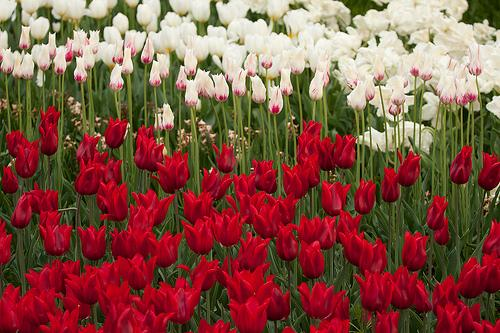tulip: (297, 280, 347, 319), (159, 275, 201, 320), (227, 294, 273, 331), (132, 185, 173, 226), (115, 251, 159, 286), (355, 268, 392, 309), (153, 149, 189, 191), (65, 265, 100, 302), (212, 209, 246, 245), (36, 222, 74, 254), (180, 217, 215, 251), (134, 135, 165, 172), (77, 223, 108, 260), (238, 232, 271, 266), (279, 161, 309, 197), (402, 227, 428, 268), (458, 255, 484, 296), (299, 237, 324, 278), (201, 164, 232, 197), (320, 179, 350, 213), (397, 147, 422, 185), (15, 138, 39, 177), (74, 159, 100, 194), (380, 165, 402, 205), (103, 114, 128, 149), (11, 192, 35, 228), (338, 229, 364, 262), (332, 132, 356, 167), (479, 149, 500, 189), (275, 223, 296, 263), (353, 178, 377, 211), (449, 145, 470, 182), (213, 139, 236, 171), (250, 155, 273, 186), (38, 121, 59, 153)
